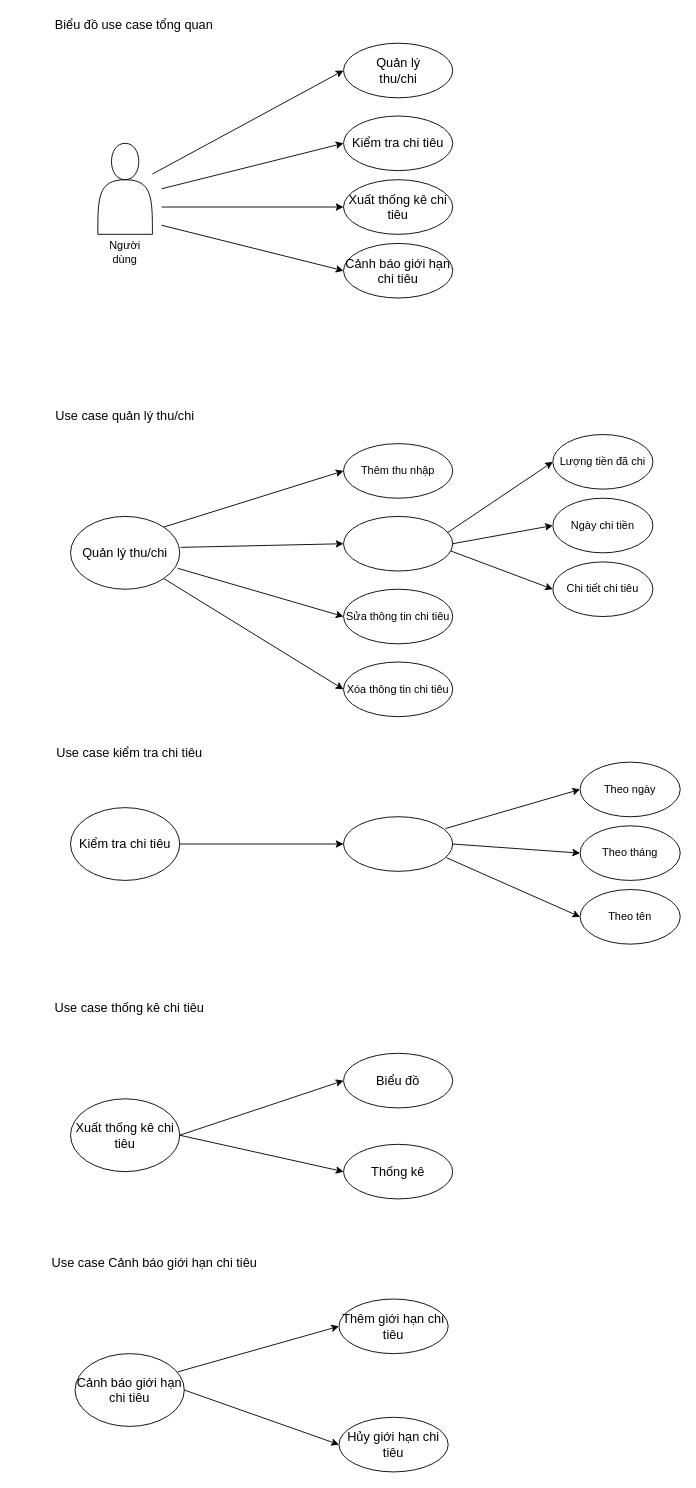
Image size: 696x1488. Some labels were removed from this diagram. Here are the shapes that lost their labels. From the top down, the box of each, then its label:
(343, 516, 453, 571): Thêm chi tiêu
(343, 816, 453, 871): Tìm kiếm
